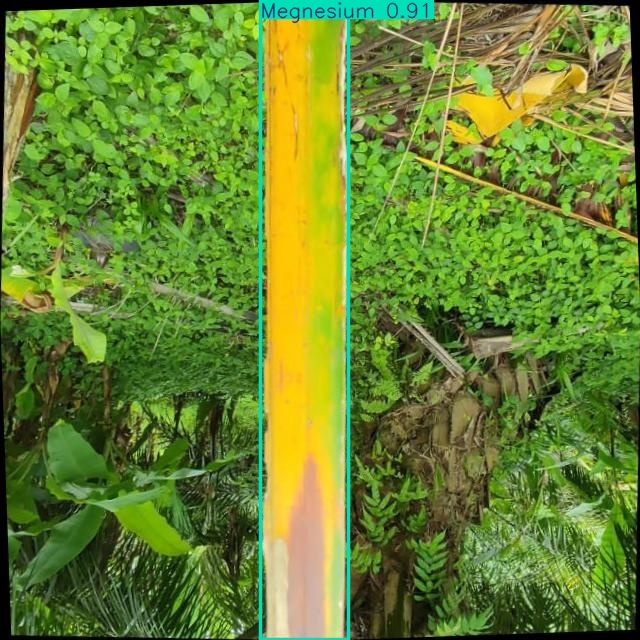Megnesium: (260, 1, 348, 639)
